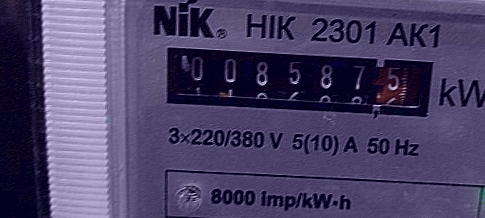0: (220, 55, 239, 84), (187, 52, 205, 82)
5: (384, 64, 403, 94), (284, 58, 303, 87)
7: (348, 60, 367, 91)
8: (316, 60, 335, 91), (252, 58, 270, 87)
screen: (145, 29, 451, 130)
